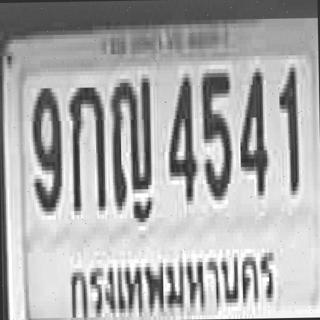A01: (68, 83, 104, 206)
A13: (110, 72, 151, 204)
N01: (277, 61, 298, 189)
N04: (237, 64, 266, 192), (166, 69, 194, 197)
N05: (200, 66, 231, 194)
N09: (30, 82, 61, 205)
P04: (59, 236, 281, 320)
